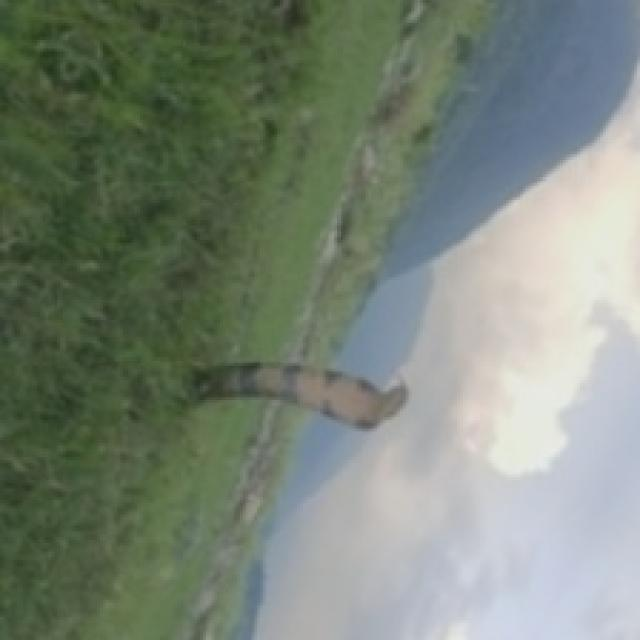king cobra: (197, 363, 406, 426)
